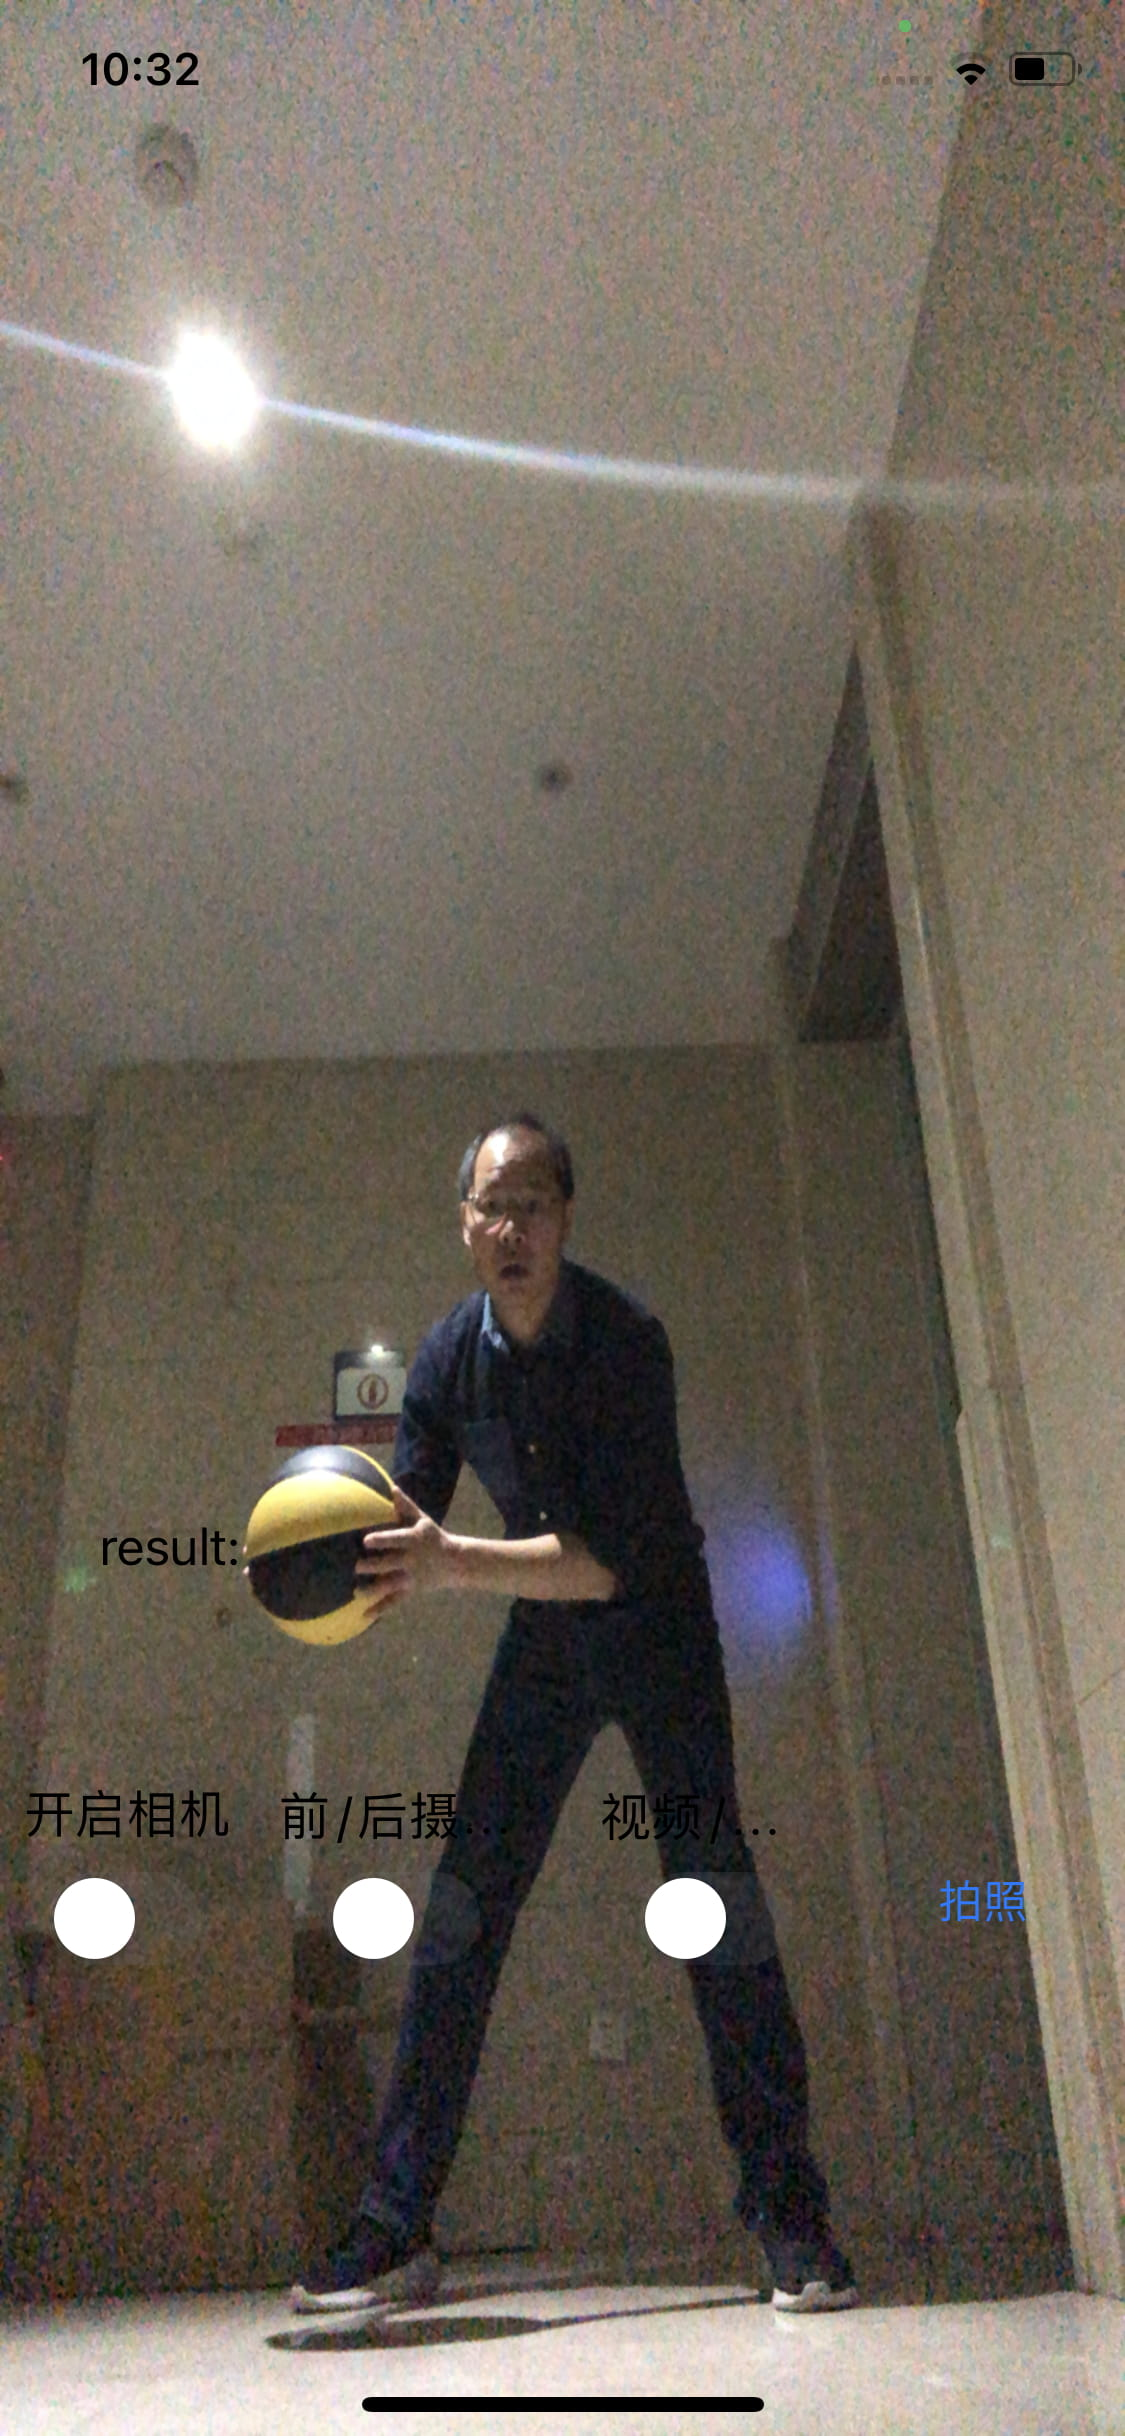ball: (238, 1439, 423, 1645)
